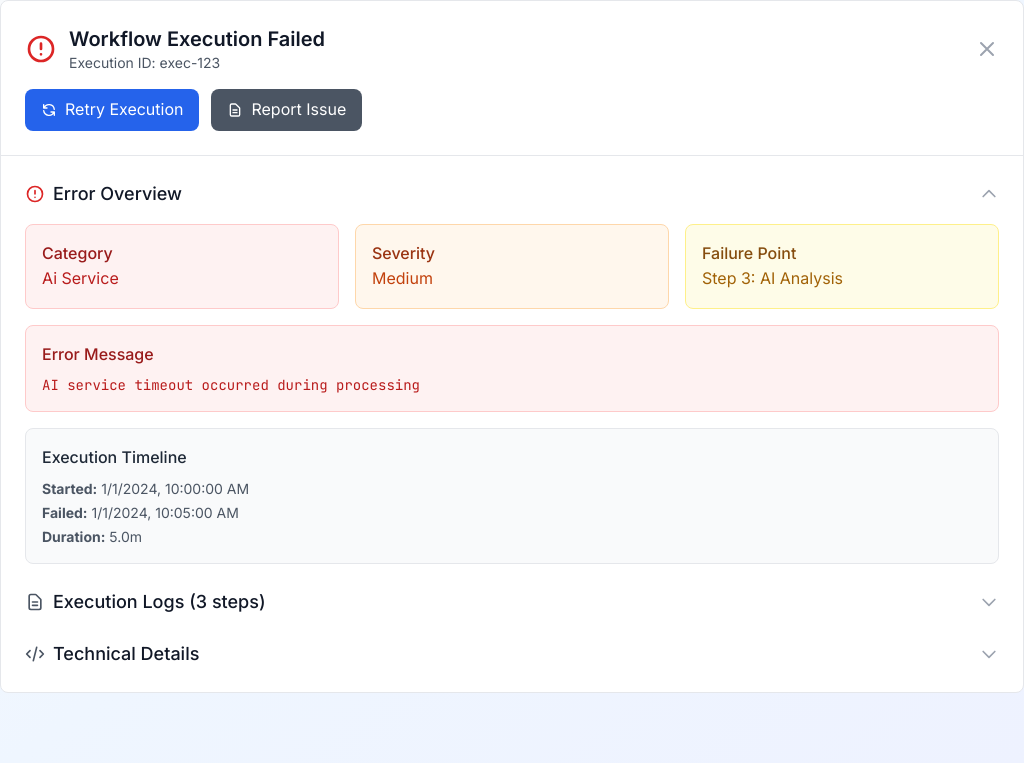
Test: WorkflowErrorDisplay › shows step details when expanded
Click the button "Execution Logs (3 steps)" at (124, 601), box [25,588,999,616]
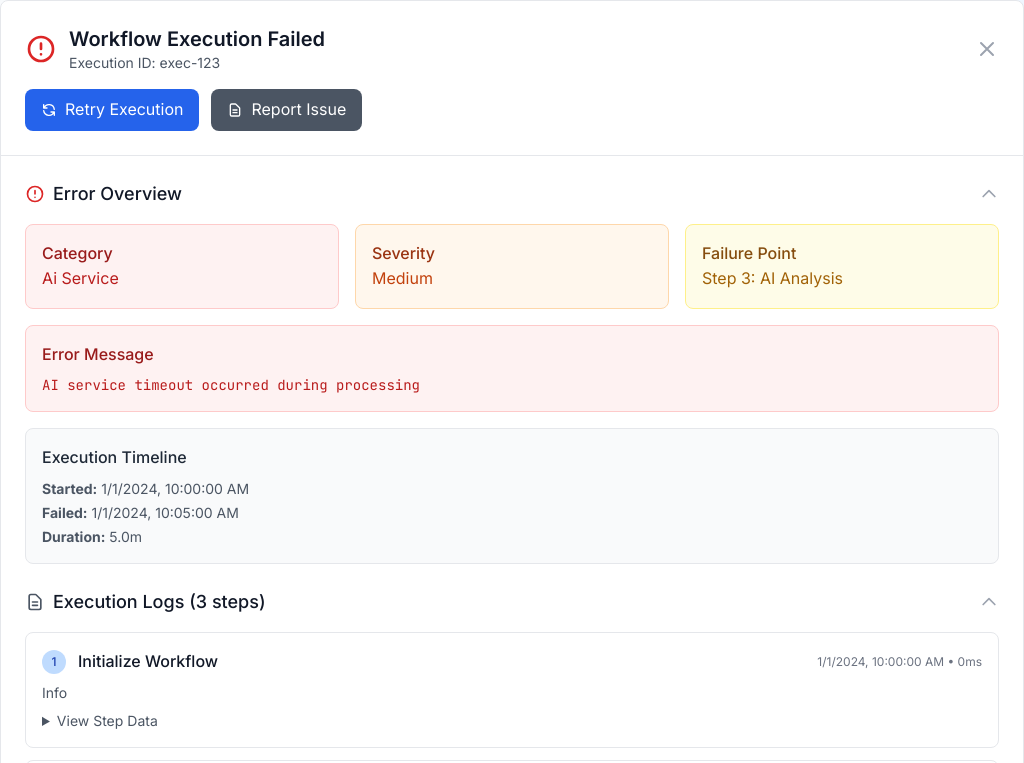
# Find and expand a step's details
Click the heading "View Step Data" at (107, 720), box [57,712,158,729]
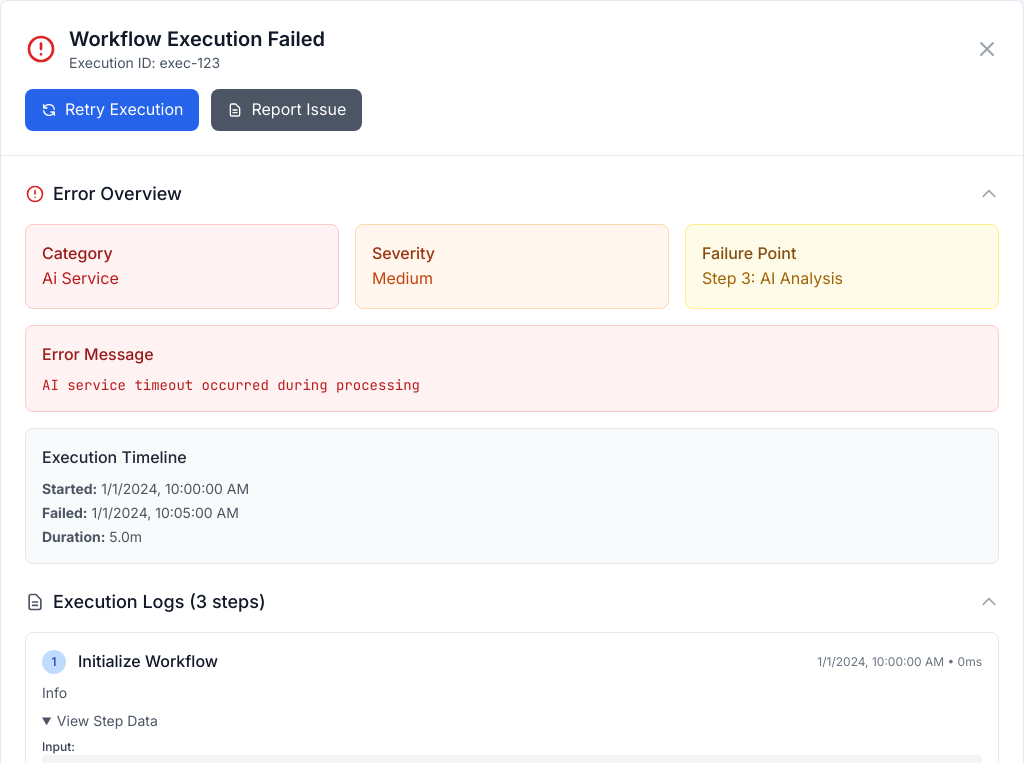
Result: the text "Input:" is shown at [42,739,75,754]
